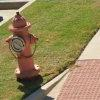a fire hydrant: (12, 12, 40, 87)
